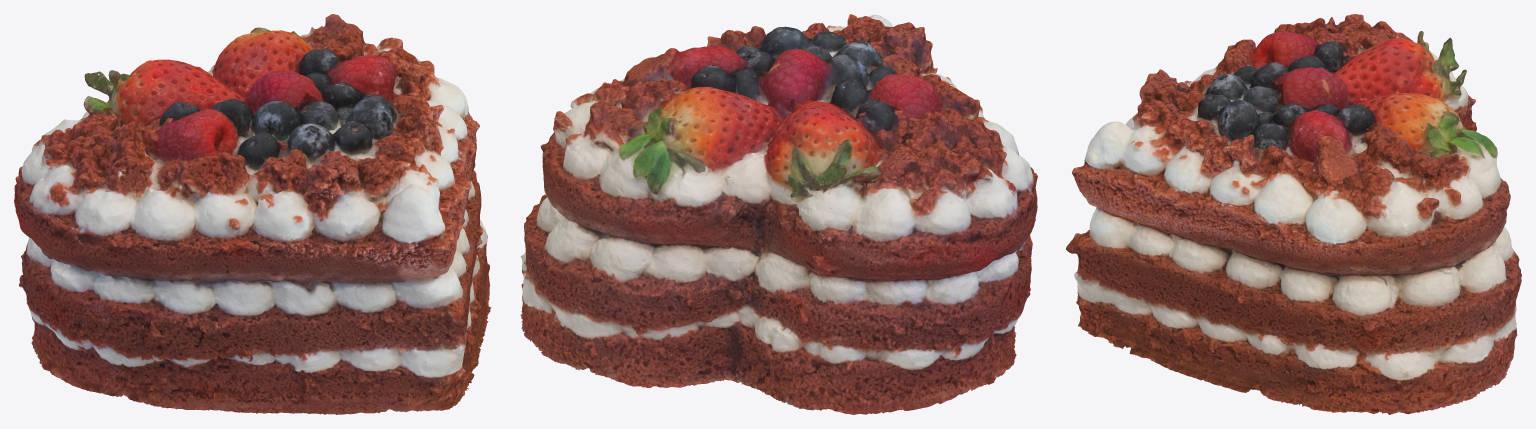
Rendered from sf-red-velvet-cake-9512b7.glb.
3 views of the same model, side by side, from view 1: azimuth 30°, elevation 25°; view 2: azimuth 150°, elevation 25°; view 3: azimuth 270°, elevation 25° (orthographic). The views are drawn at different scales.
Visible parts, largest first — view 1: Model_material0_0, Model_material1_0; view 2: Model_material0_0, Model_material1_0; view 3: Model_material1_0, Model_material0_0.
Part boxes in pixels (x1=…): Model_material0_0: x1=26, y1=21, x2=491, y2=414; Model_material1_0: x1=14, y1=14, x2=480, y2=411; Model_material0_0: x1=539, y1=14, x2=1037, y2=414; Model_material1_0: x1=520, y1=14, x2=1031, y2=388; Model_material1_0: x1=1066, y1=14, x2=1508, y2=414; Model_material0_0: x1=1135, y1=17, x2=1521, y2=413.
Size of the model in its own units: 2.08 by 1.16 by 1.92.
2 materials, 2 textured.
